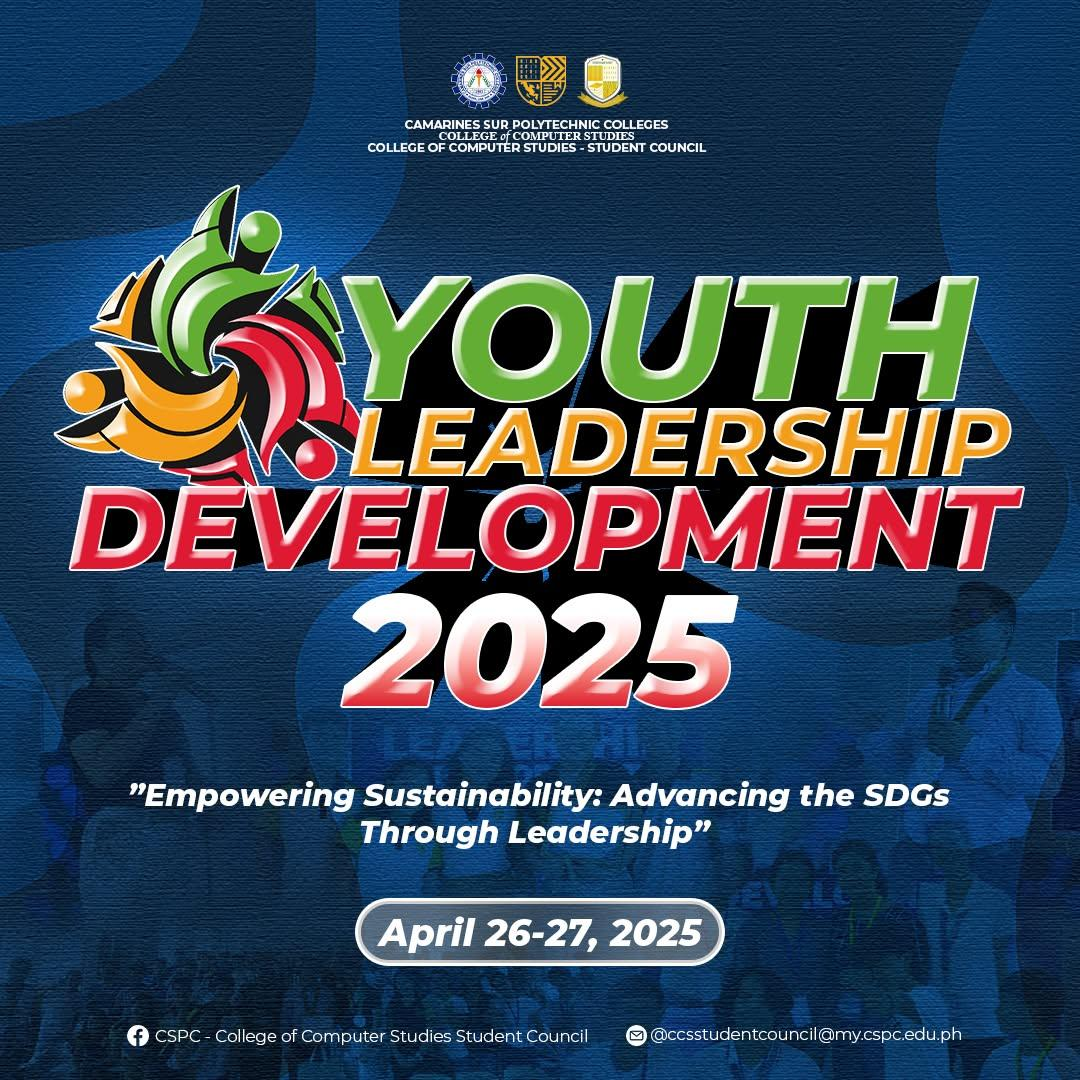embellishment: (124, 1020, 153, 1050), (622, 1020, 652, 1048)
logo: (445, 46, 513, 113), (575, 47, 636, 110), (514, 47, 572, 112)
text: (58, 475, 1045, 719), (333, 260, 1029, 482), (117, 770, 971, 852), (372, 907, 714, 956), (361, 114, 719, 158), (151, 1022, 597, 1048), (652, 1022, 968, 1046)
underlay: (0, 579, 1080, 1079)
